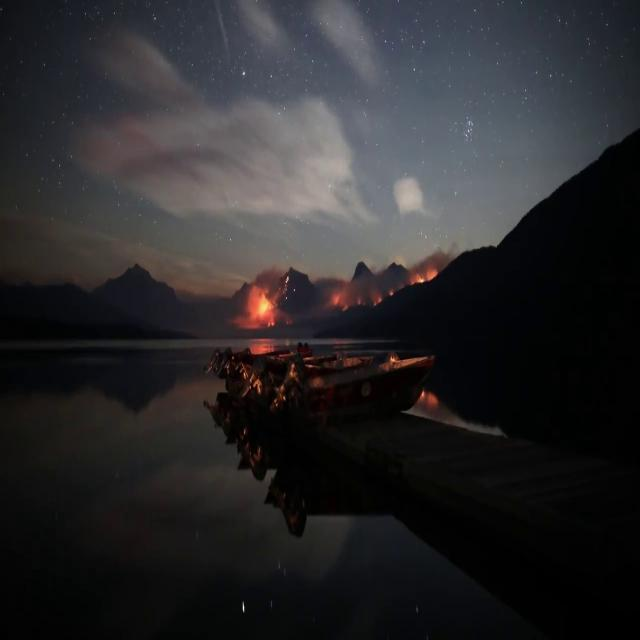Fire: (239, 284, 277, 329)
